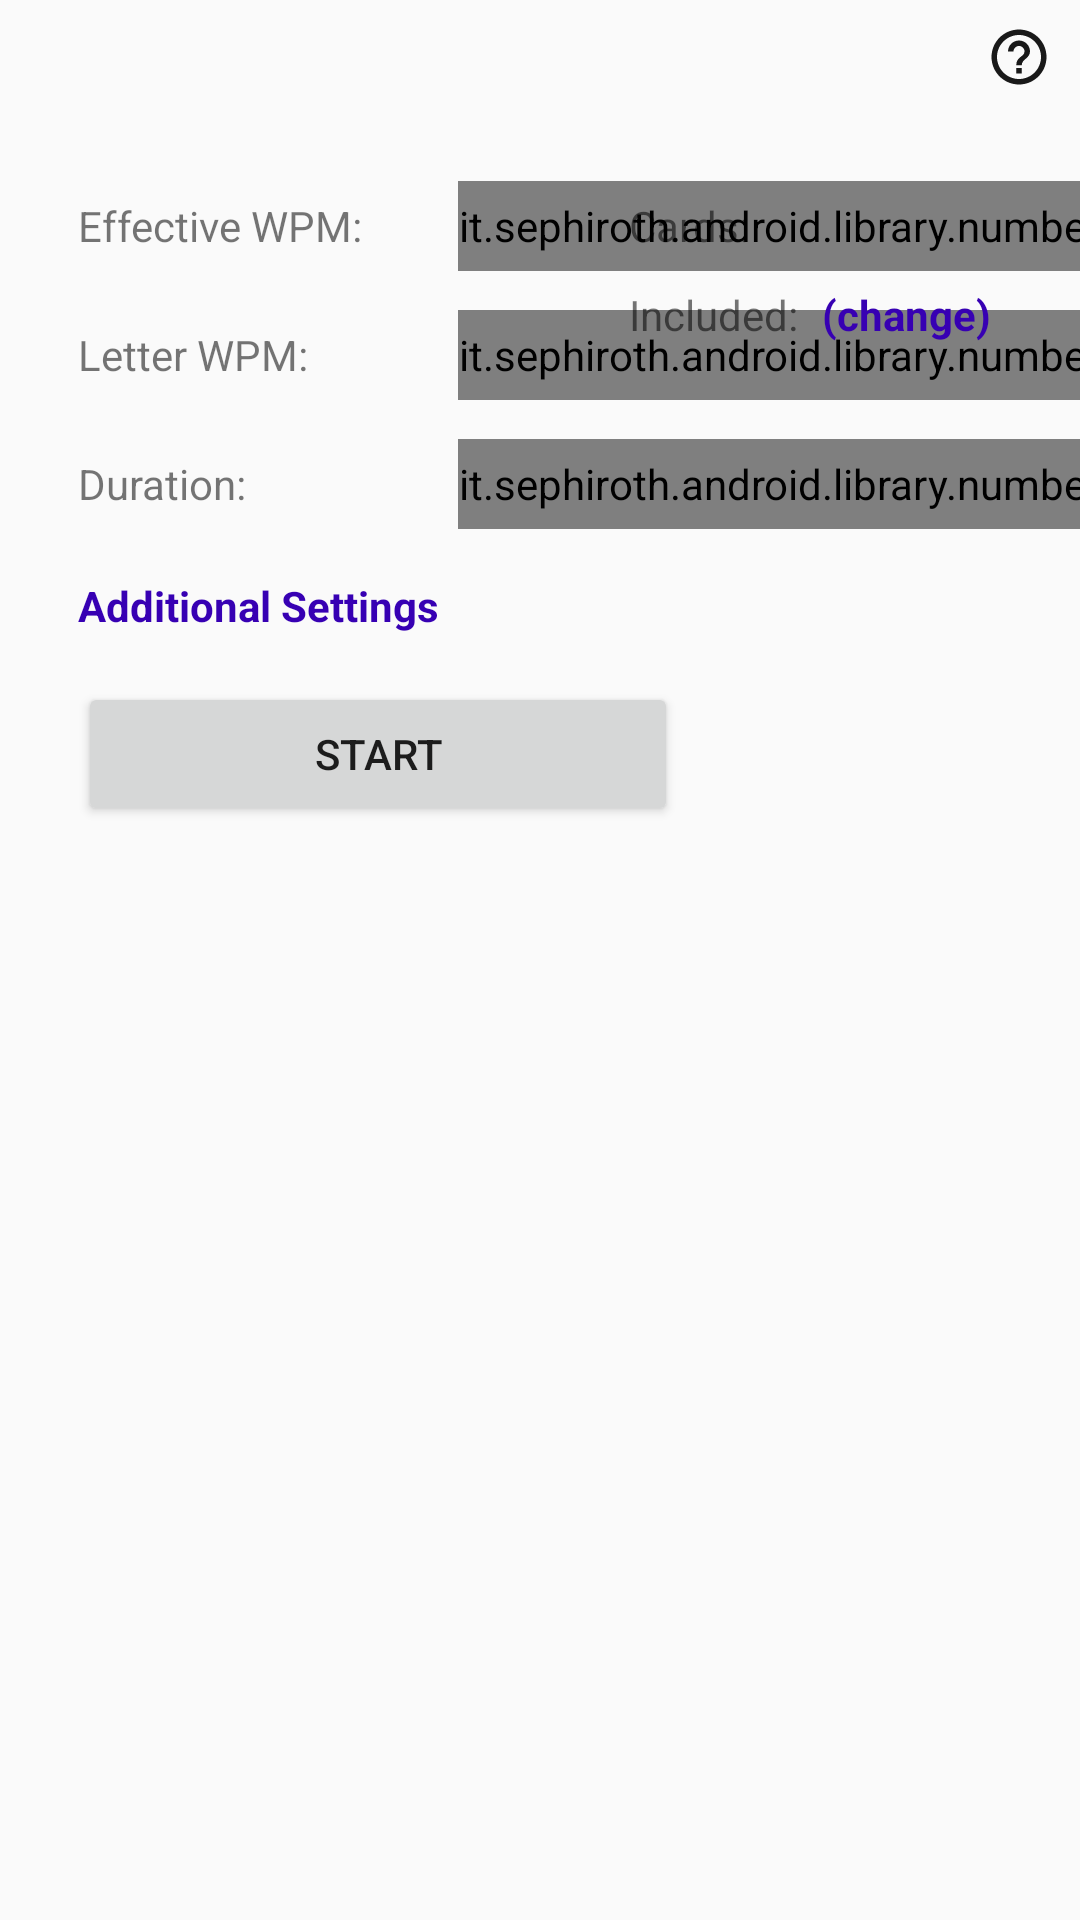

Named icons in this screenshot (1080*1920) and their centers, (x,y):
help: (1019,57)
